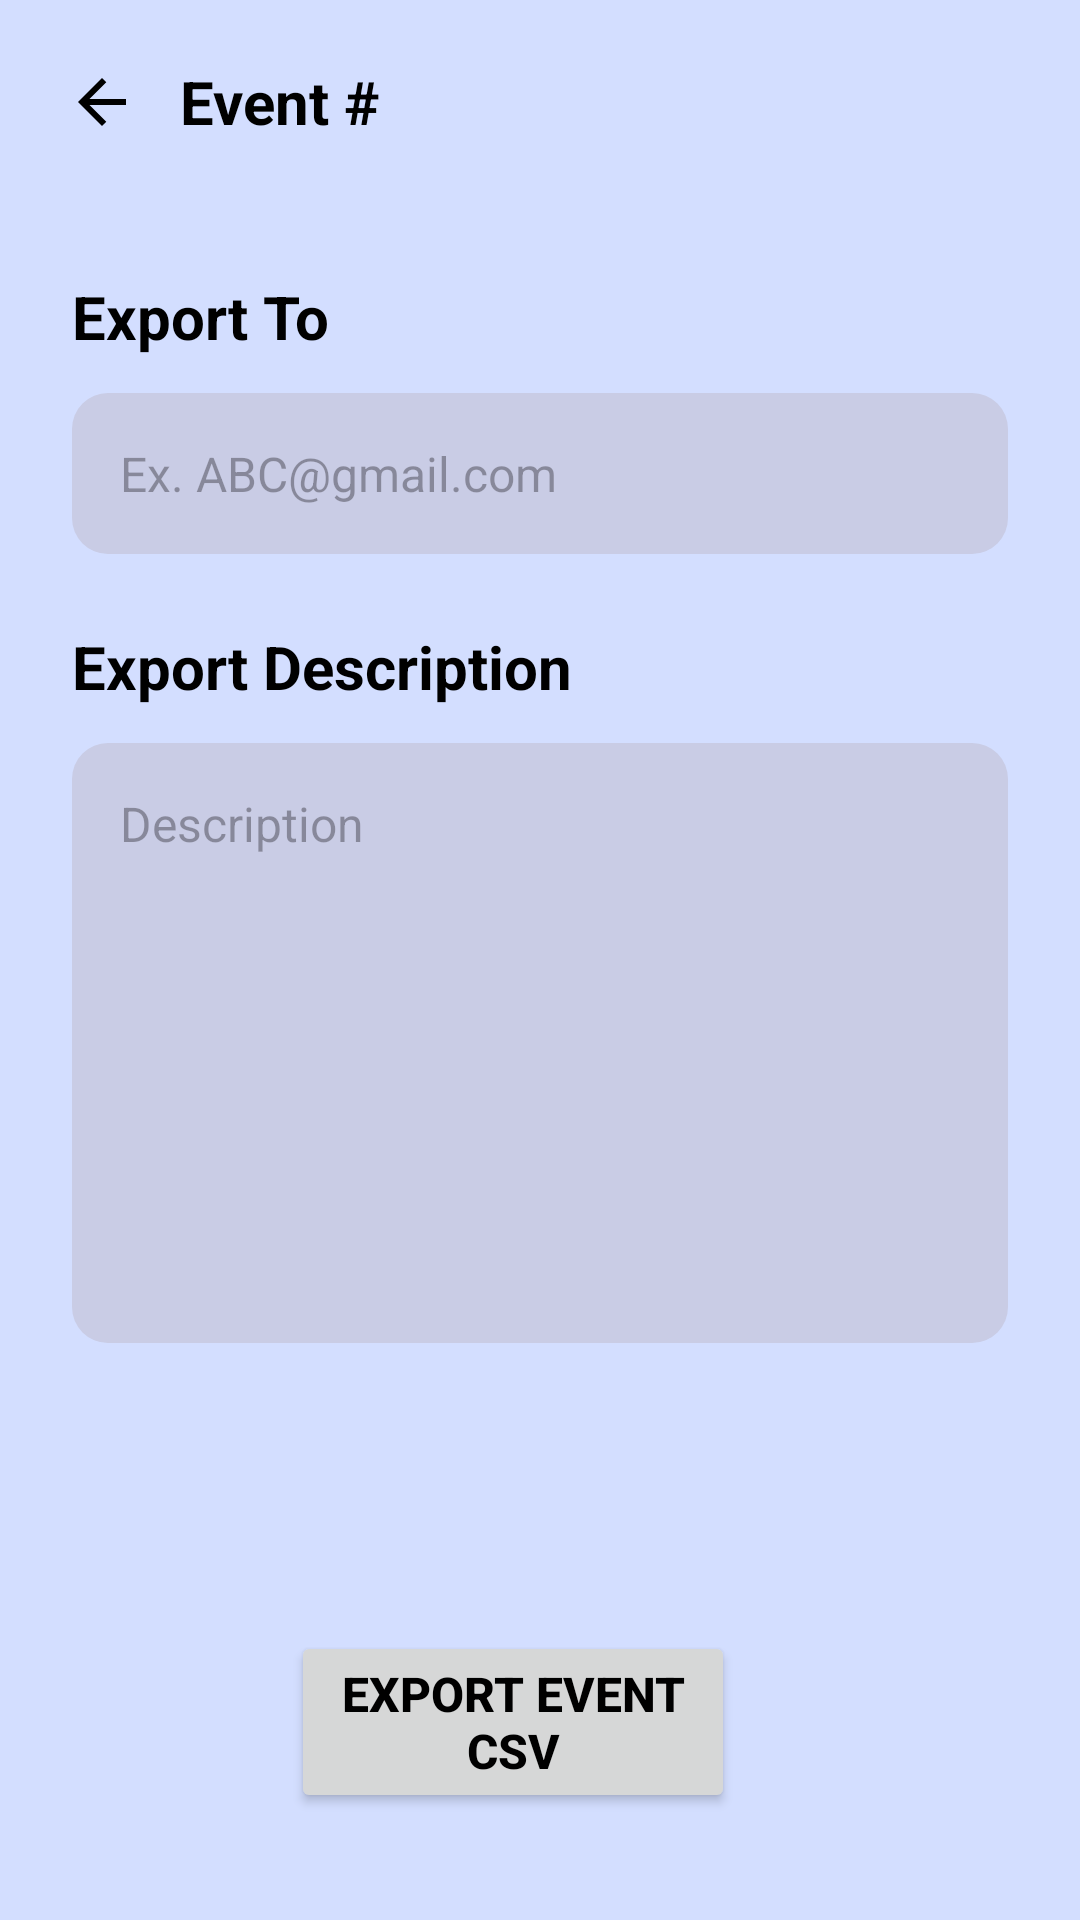

Where icons sit on this 1080 × 1920 app screen, as bbox=(x1, y1, x2, y2):
Back: bbox=(78, 78, 126, 126)
